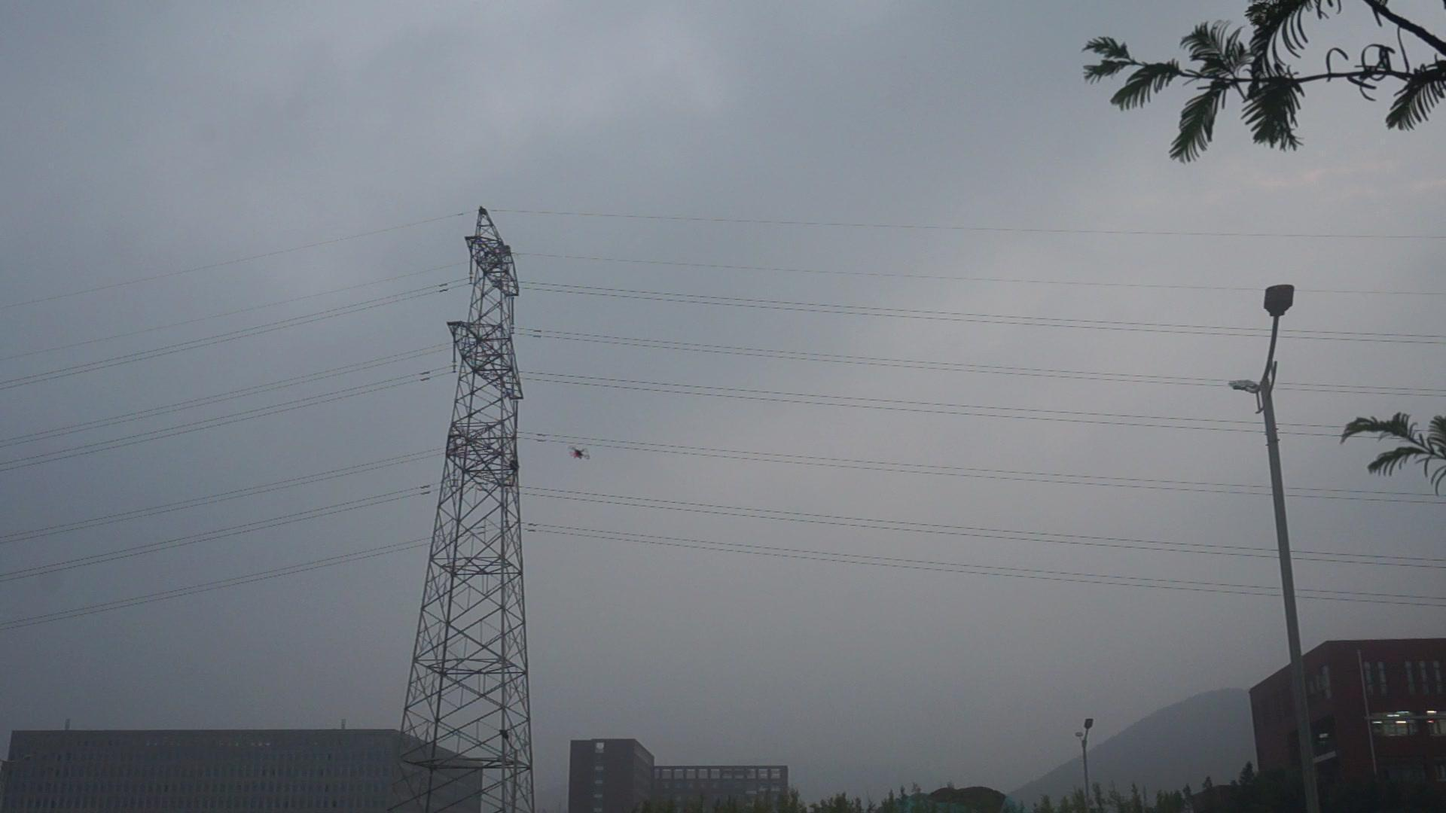UAV: (569, 446, 590, 459)
